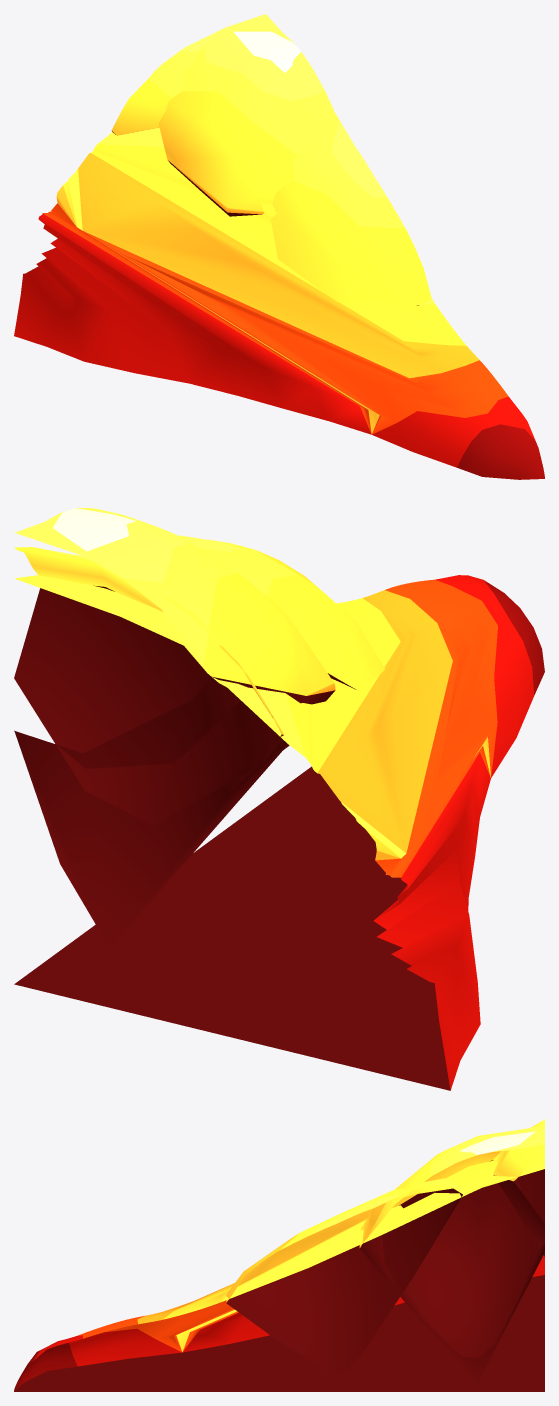
Rendered from shot_dflame_75.glb.
The picture shows the model from 3 angles, top to bottom: view 1: azimuth 30°, elevation 25°; view 2: azimuth 150°, elevation 25°; view 3: azimuth 270°, elevation 25°; orthographic projection. The views are drawn at different scales.
Parts seen in each view (by area): view 1: dflame_big1_fire_b75, dflame_big1_billow4_b75, dflame_big1_billow5_b75, dflame_big1_billow2_b75; view 2: dflame_big1_fire_b75, dflame_big1_billow4_b75, dflame_big1_billow2_b75, dflame_big1_billow5_b75; view 3: dflame_big1_fire_b75, dflame_big1_billow4_b75, dflame_big1_billow5_b75, dflame_big1_billow2_b75.
Part boxes in pixels (x1,y1,x2,y2): dflame_big1_fire_b75: (14,127,544,479); dflame_big1_billow4_b75: (158,14,334,216); dflame_big1_billow5_b75: (270,113,431,305); dflame_big1_billow2_b75: (111,31,218,135); dflame_big1_fire_b75: (14,575,544,1090); dflame_big1_billow4_b75: (14,508,335,947); dflame_big1_billow2_b75: (14,547,283,825); dflame_big1_billow5_b75: (178,535,384,749); dflame_big1_fire_b75: (14,1152,544,1391); dflame_big1_billow4_b75: (359,1126,544,1381); dflame_big1_billow5_b75: (226,1178,463,1372); dflame_big1_billow2_b75: (493,1119,544,1256).
Bounding box in the file's own units: 6.22 × 6.15 × 11.93.
